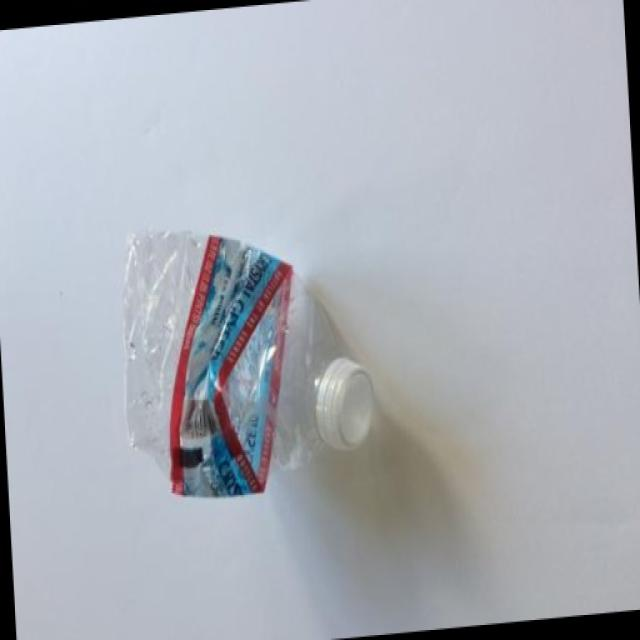plastico: (104, 188, 462, 564)
